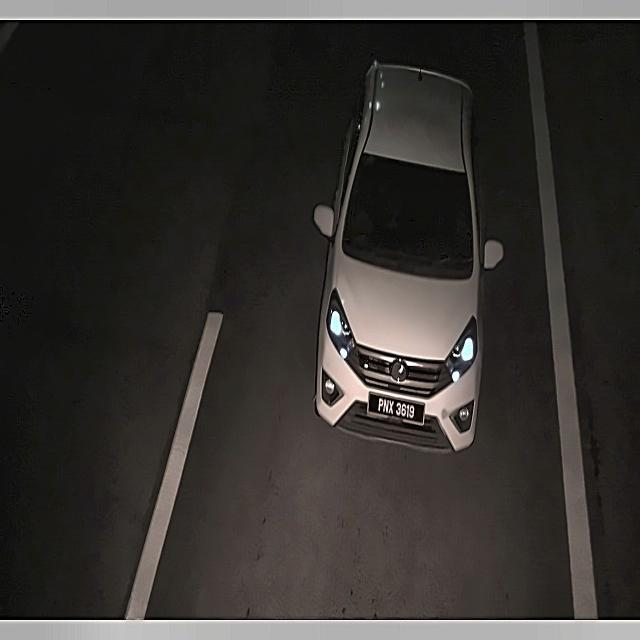car: (366, 385, 428, 428)
